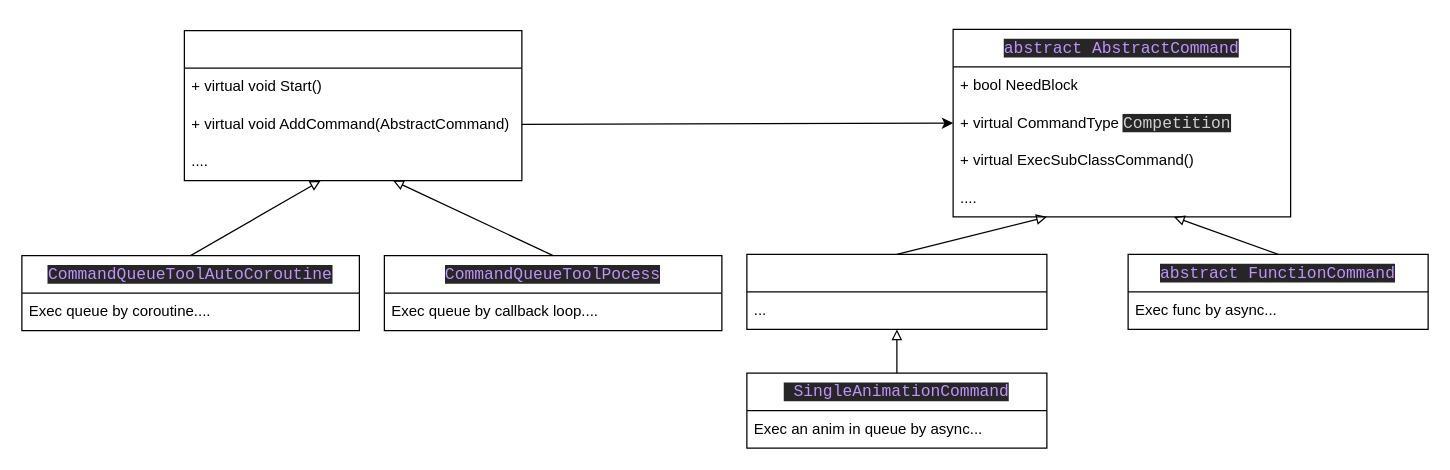
The diagram is 1450 pixels wide and 470 high, and some of its shapes have lost their labels. The shapes that lost their labels are listed below. From the top down, each one's box as (x1, y1, x2, y2) in pixels, then its label:
(183, 29, 522, 181): abstract CommandQueueTool
(746, 253, 1047, 329): abstract AnimationCommand
